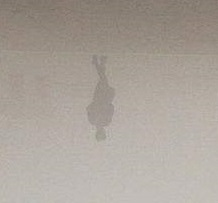person: (86, 55, 115, 142)
